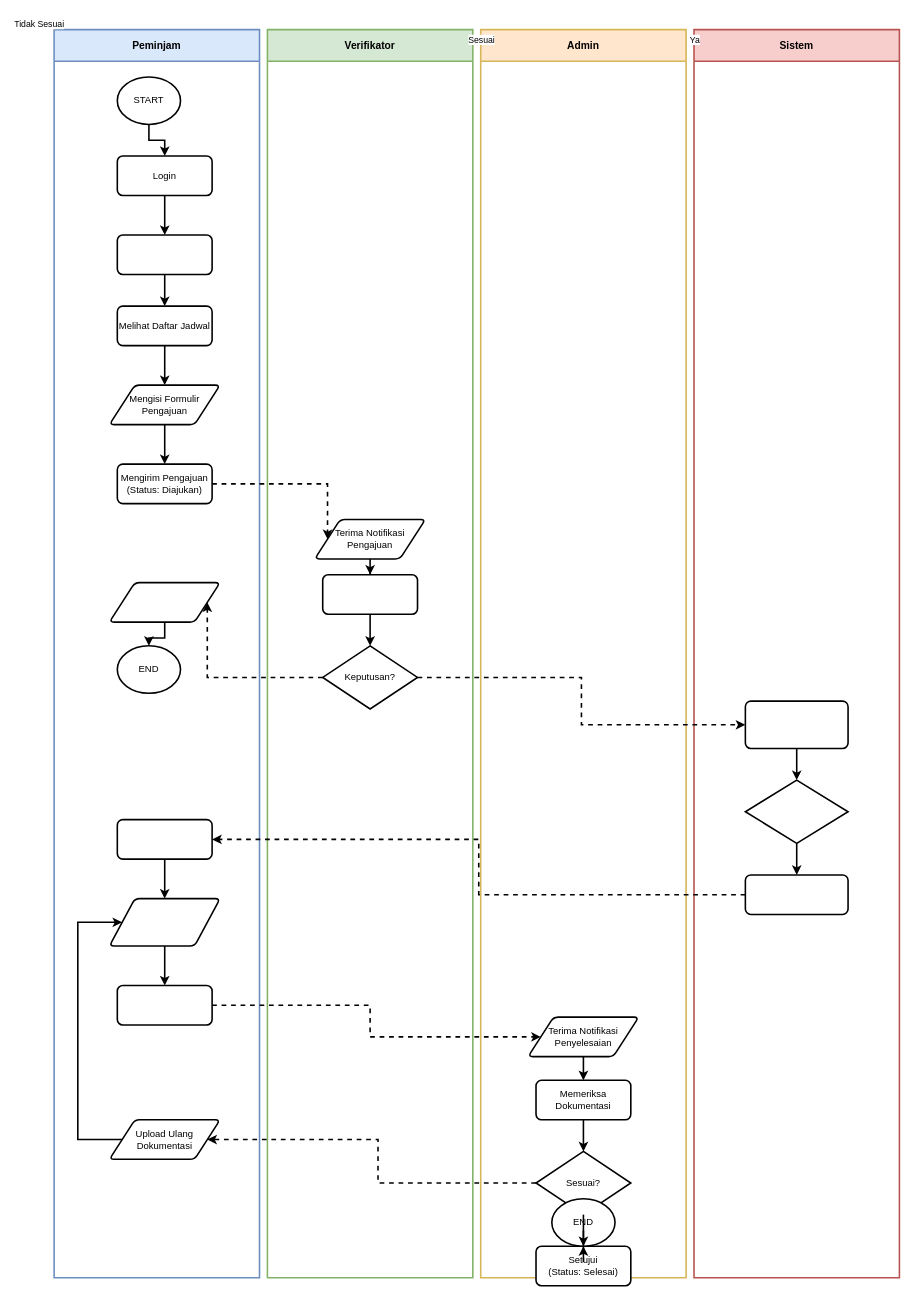
Image size: 913x1300. Some labels were removed from this diagram. The centre of each missing label's shape, as x and y in pixels:
Melihat Daftar Ruangan: (x=164, y=254)
Membuat Data Jadwal (Status: Akan Datang): (x=796, y=724)
Menggunakan Ruangan: (x=164, y=839)
Mengirim Penyelesaian (Status: Ditinjau): (x=164, y=1004)
Meninjau Pengajuan: (x=370, y=594)
Terima Notifikasi Pengajuan Ditolak: (x=164, y=602)
Ubah Status → Berlangsung: (x=796, y=894)
Upload Dokumentasi (Penggunaan, Kebersihan, Kunci): (x=164, y=921)
Waktu Mulai Tercapai?: (x=796, y=811)
